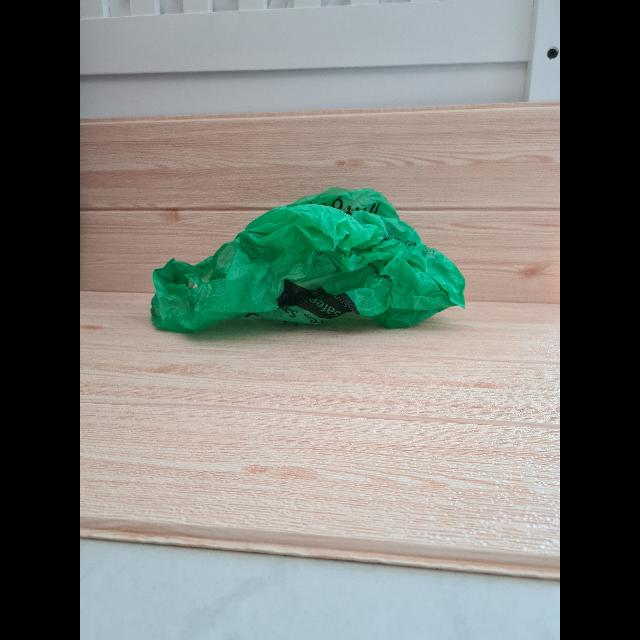plastic_bag: (146, 186, 470, 330)
